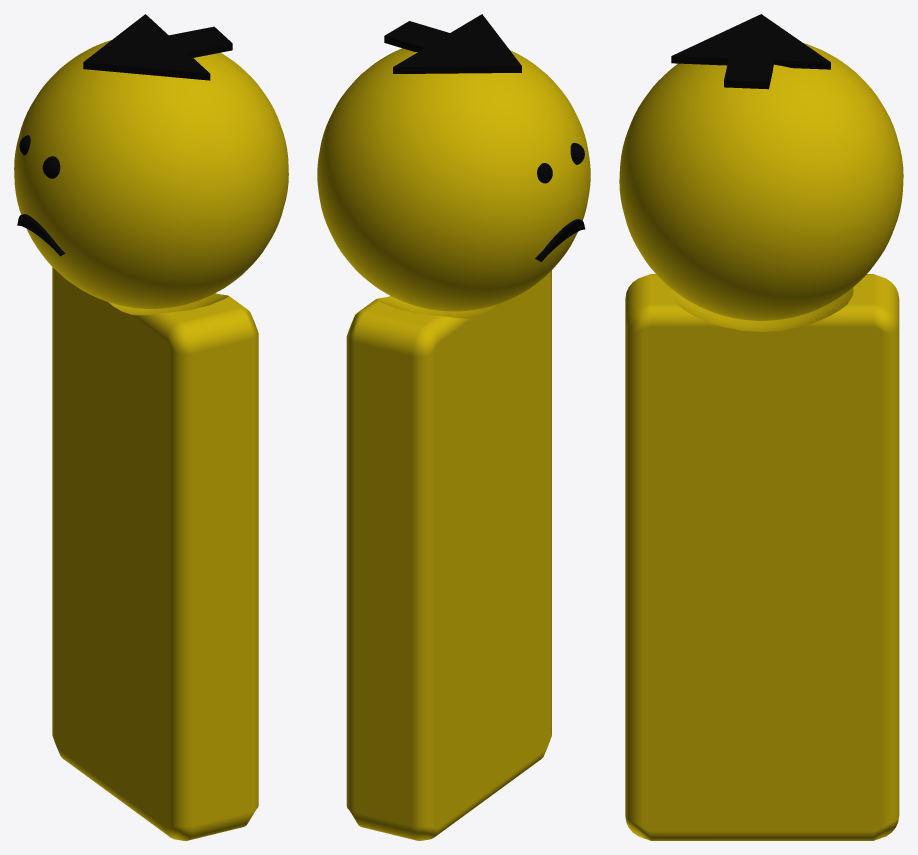
Rendered from yellow_sad.obj.
3 renders of one model, left to right at view 1: azimuth 30°, elevation 25°; view 2: azimuth 150°, elevation 25°; view 3: azimuth 270°, elevation 25°, orthographic. The views are drawn at different scales.
Parts seen in each view (by area): view 1: 1_Curve.002_Curve.002, 5.002_Curve.002_Curve.003_5.002_Curve.002_Curve.001; view 2: 1_Curve.002_Curve.002, 5.002_Curve.002_Curve.003_5.002_Curve.002_Curve.001; view 3: 1_Curve.002_Curve.002, 5.002_Curve.002_Curve.003_5.002_Curve.002_Curve.001.
Part boxes in pixels (x1,y1,x2,y2): 1_Curve.002_Curve.002: [14, 40, 288, 840]; 5.002_Curve.002_Curve.003_5.002_Curve.002_Curve.001: [17, 14, 232, 256]; 1_Curve.002_Curve.002: [317, 48, 590, 840]; 5.002_Curve.002_Curve.003_5.002_Curve.002_Curve.001: [384, 14, 585, 261]; 1_Curve.002_Curve.002: [619, 43, 903, 840]; 5.002_Curve.002_Curve.003_5.002_Curve.002_Curve.001: [671, 14, 830, 89].
Bounding box in the file's own units: 0.1677 × 0.4993 × 0.1661.
